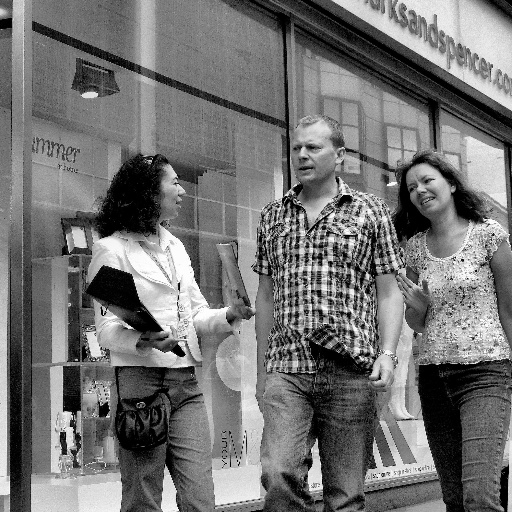hand: (394, 270, 429, 316), (367, 353, 395, 392), (226, 284, 257, 319), (149, 322, 180, 354)
